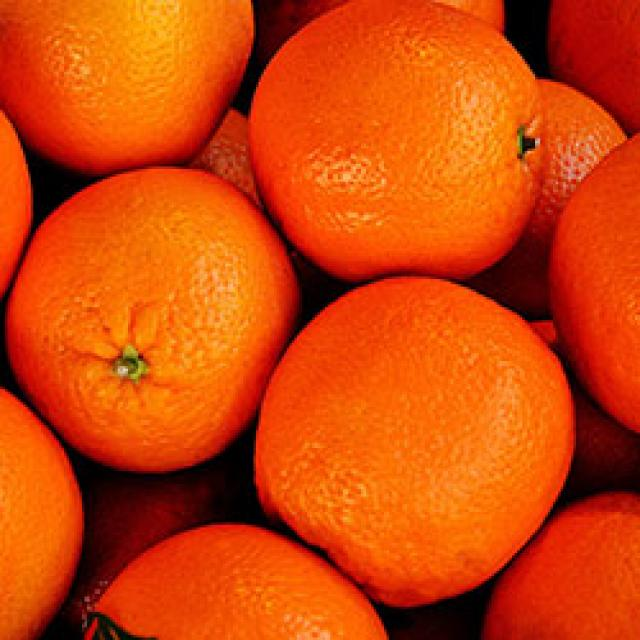orange: (253, 270, 575, 602), (249, 2, 543, 286), (16, 170, 300, 459), (0, 0, 248, 171), (71, 525, 392, 640), (61, 442, 226, 631), (508, 72, 636, 314), (550, 130, 640, 440), (518, 322, 640, 525), (0, 383, 86, 640), (479, 482, 640, 592), (526, 0, 640, 144), (304, 0, 514, 77), (169, 94, 285, 232), (0, 99, 33, 313)
